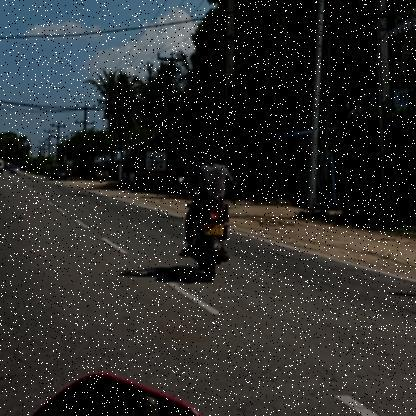motorcycle: (177, 202, 236, 284)
